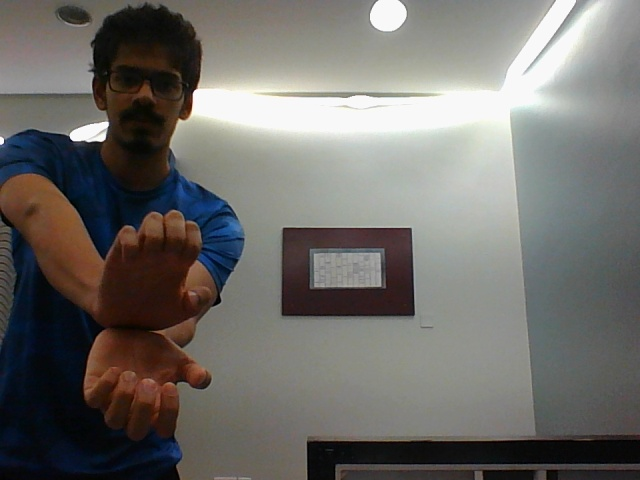blast: (71, 202, 237, 455)
